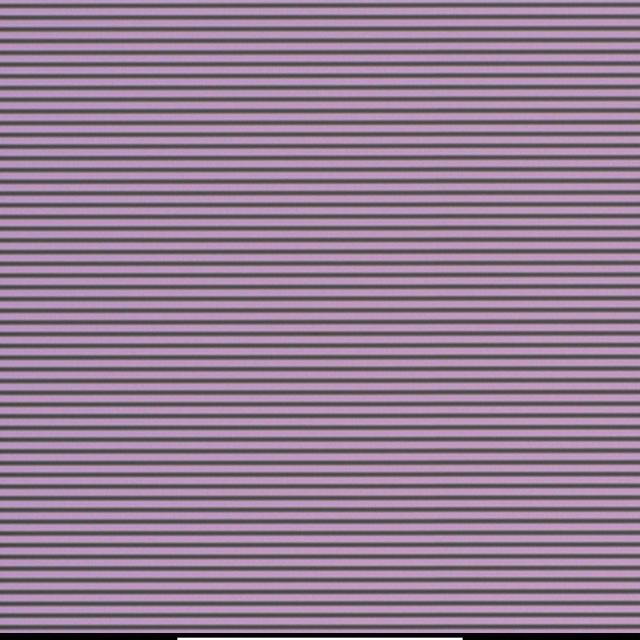nonvisual: (334, 312, 342, 318)
